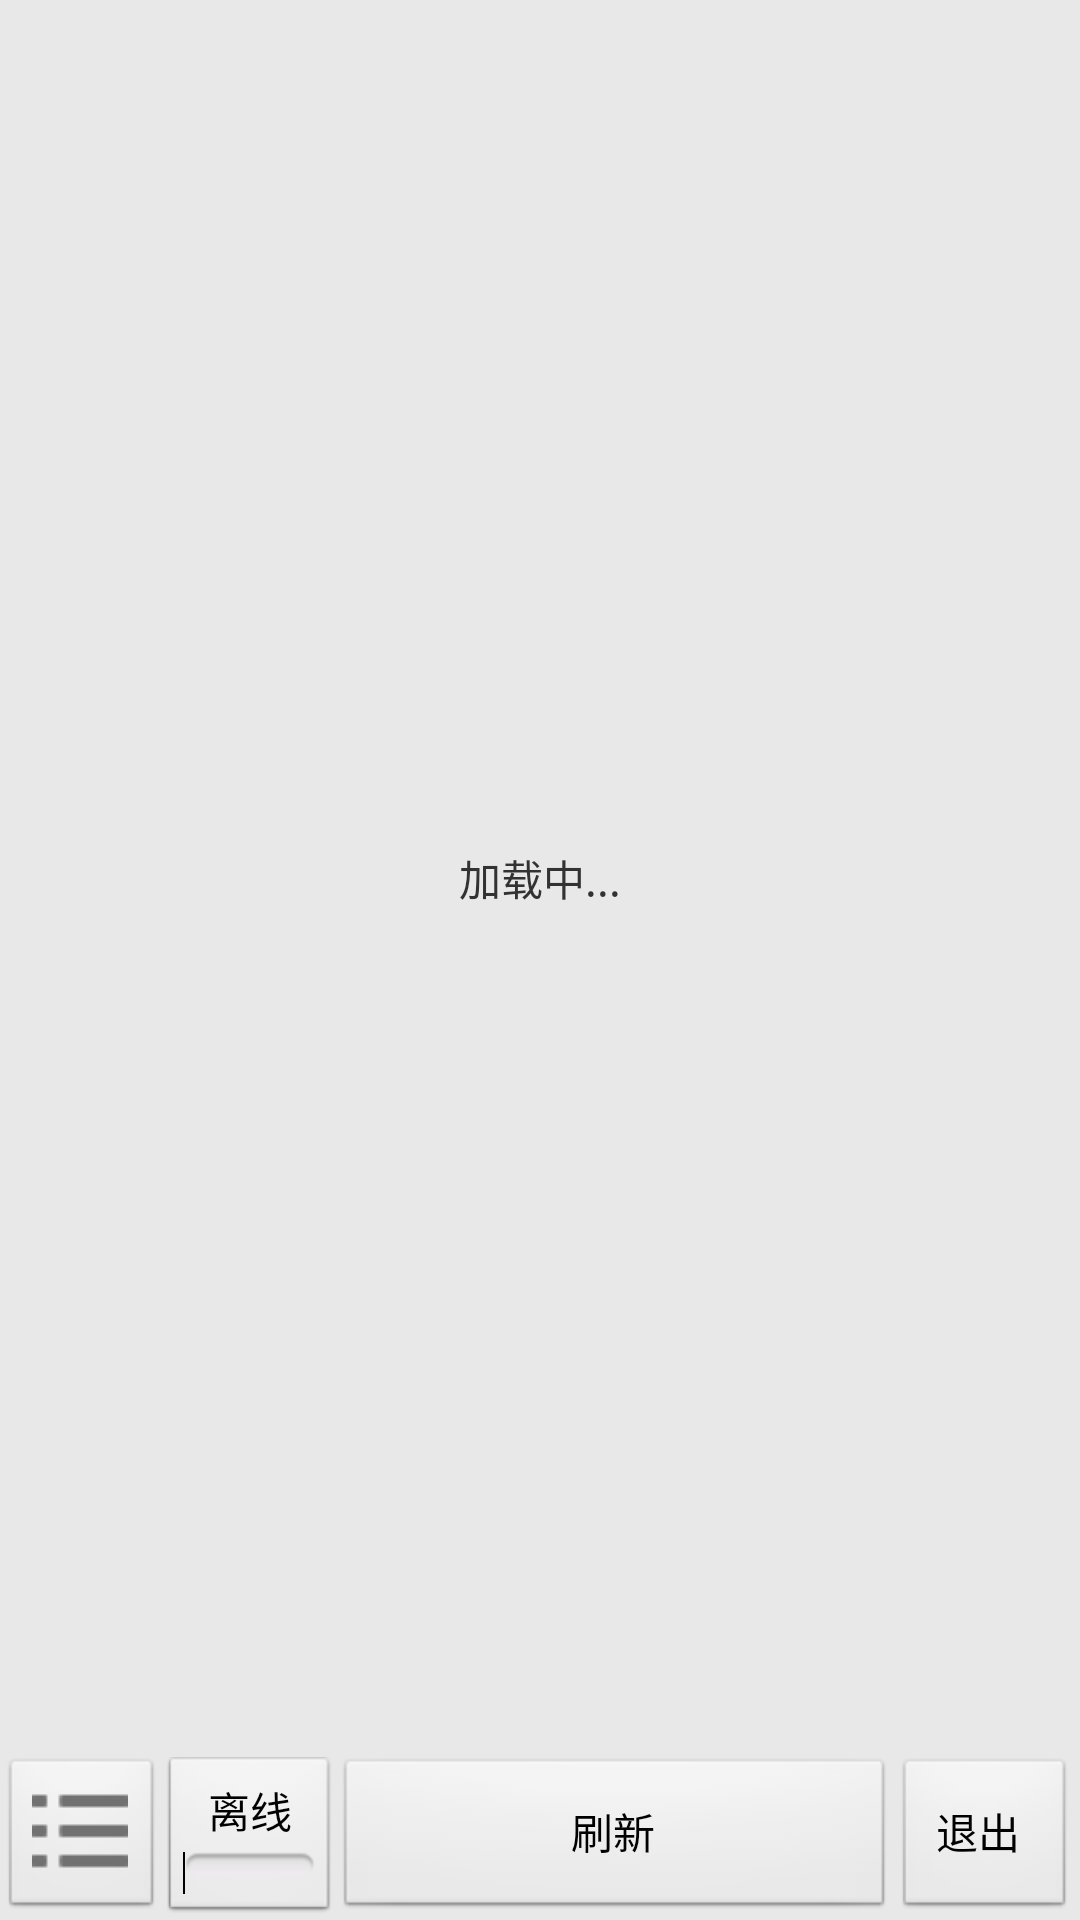

Screen size 1080px×1920px. Icon name, then its box in pixels as [x1=x1, y1=y1, x2=x2, y2=y2]:
menu: [x1=9, y1=1764, x2=154, y2=1906]
